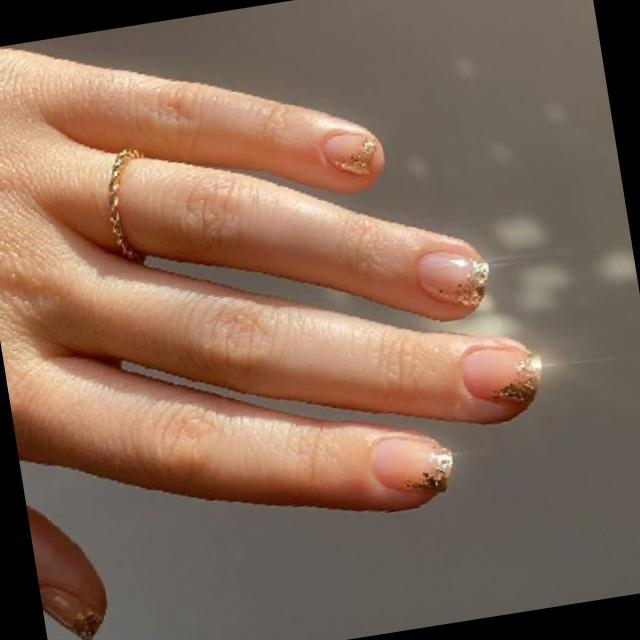Nail: (371, 437, 452, 494), (462, 349, 541, 403), (417, 251, 488, 310), (38, 585, 104, 640), (322, 133, 376, 175)
